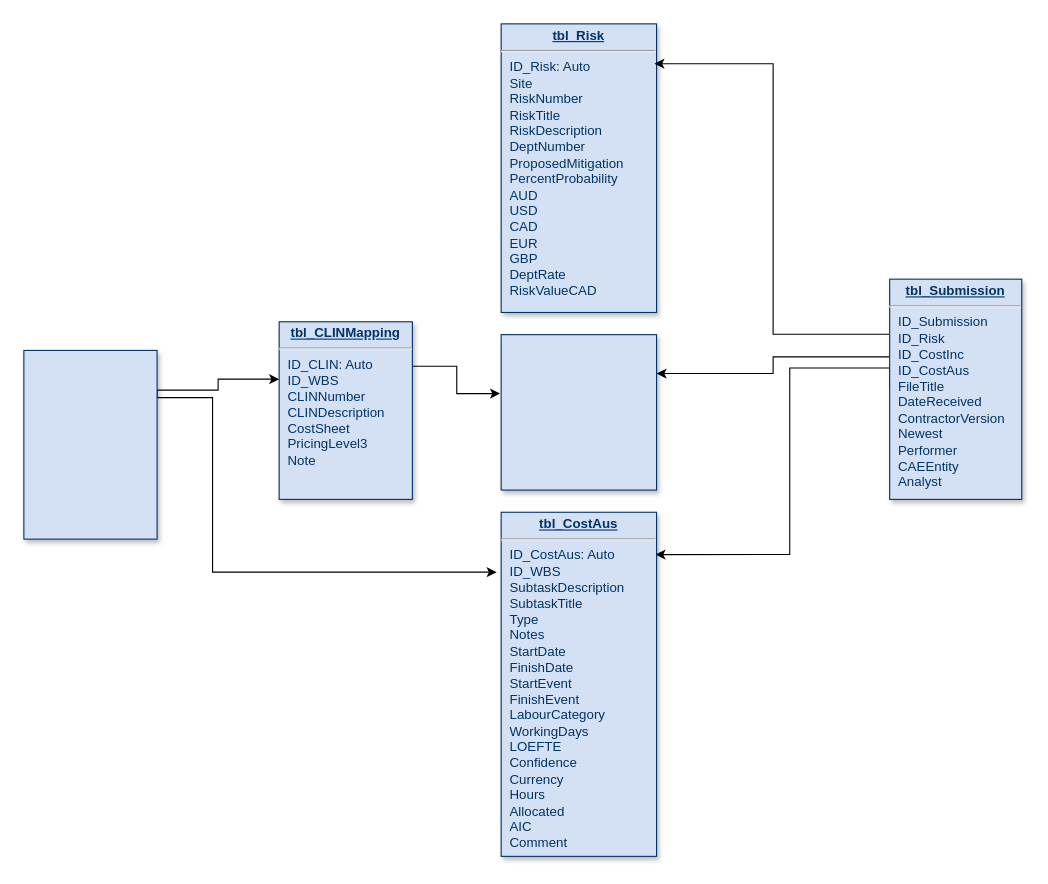
This 1048x884 diagram has some shape labels left out. Each missing label, with the centre of its shape:
"tbl_CostInc ID_CostInc: Auto ID_CLIN CostDescription CostType Value Comment" goes at pixel 579 413.
"tbl_WBS ID_WBS: Auto ElementNumber ElementName BOEPoint Responsible Date Value" goes at pixel 91 446.
